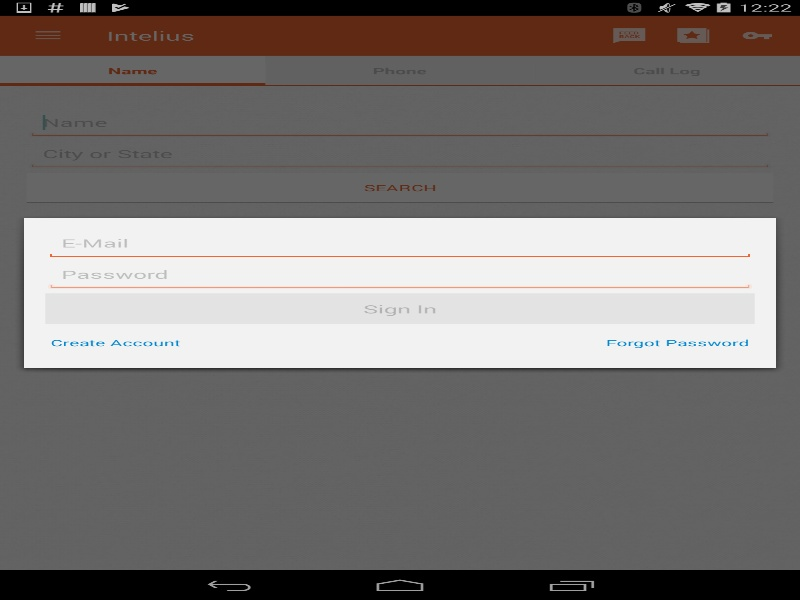Button: (45, 293, 754, 324), (600, 327, 754, 357), (45, 327, 186, 357)
Input: (45, 227, 754, 259), (45, 259, 754, 290)
